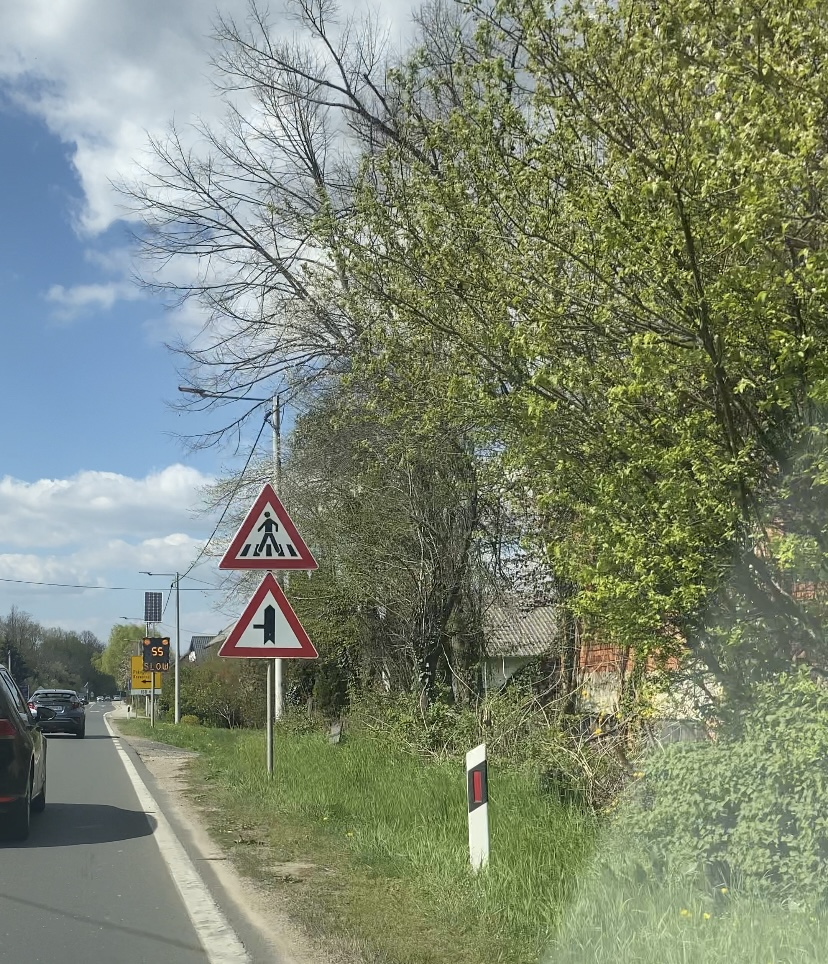Približavanje pješačkom prijelazu: (217, 483, 319, 571)
